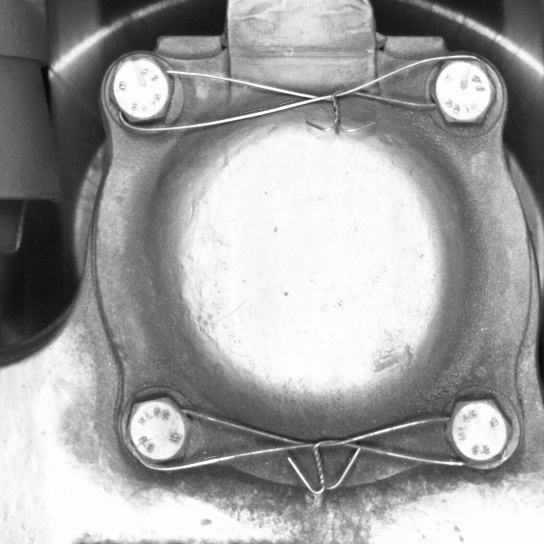IronWire: (96, 41, 508, 137), (114, 385, 519, 470)
Screw: (100, 44, 184, 131), (115, 388, 197, 476), (424, 49, 508, 133), (436, 388, 519, 469)
